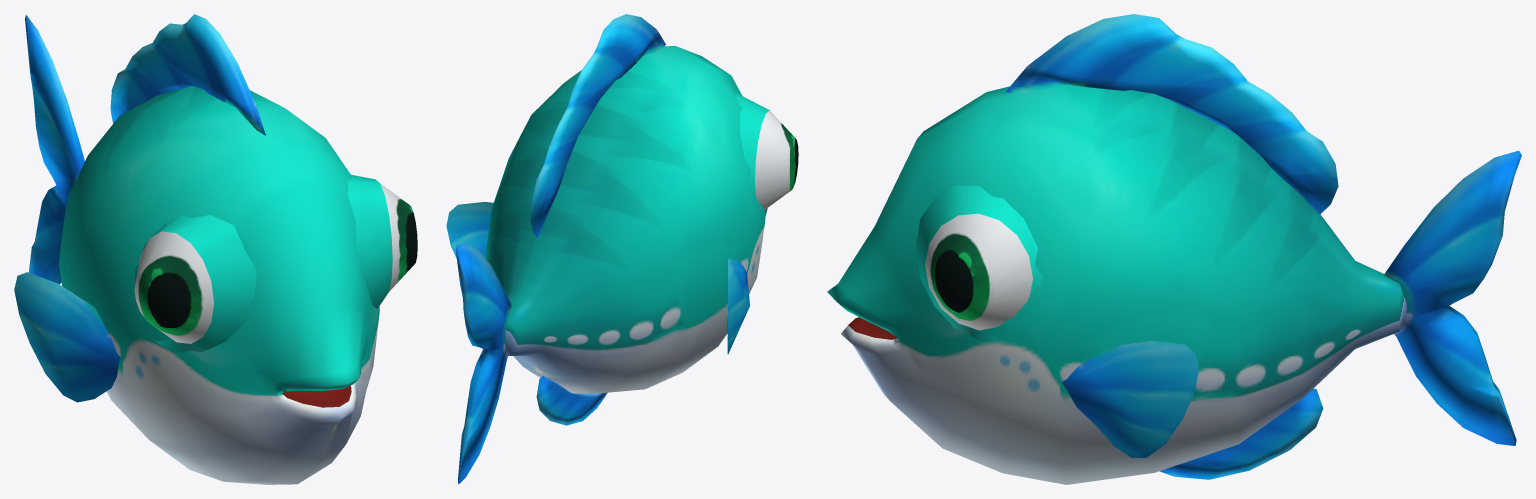
The picture shows the model from 3 angles, left to right: view 1: azimuth 30°, elevation 25°; view 2: azimuth 150°, elevation 25°; view 3: azimuth 270°, elevation 25°; orthographic projection. The views are drawn at different scales.
Visible parts, largest first — view 1: Blue_Striper; view 2: Blue_Striper; view 3: Blue_Striper.
Part boxes in pixels (left/top/right/bottom): Blue_Striper: left=14, top=14, right=417, bottom=484; Blue_Striper: left=446, top=14, right=798, bottom=484; Blue_Striper: left=827, top=14, right=1521, bottom=484.
Bounding box in the file's own units: 0.1826 × 0.2352 × 0.318.
